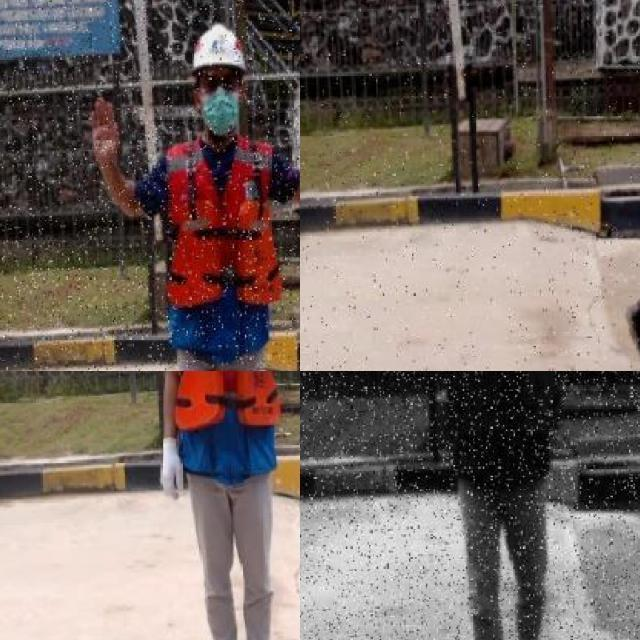apron: (157, 434, 185, 505)
